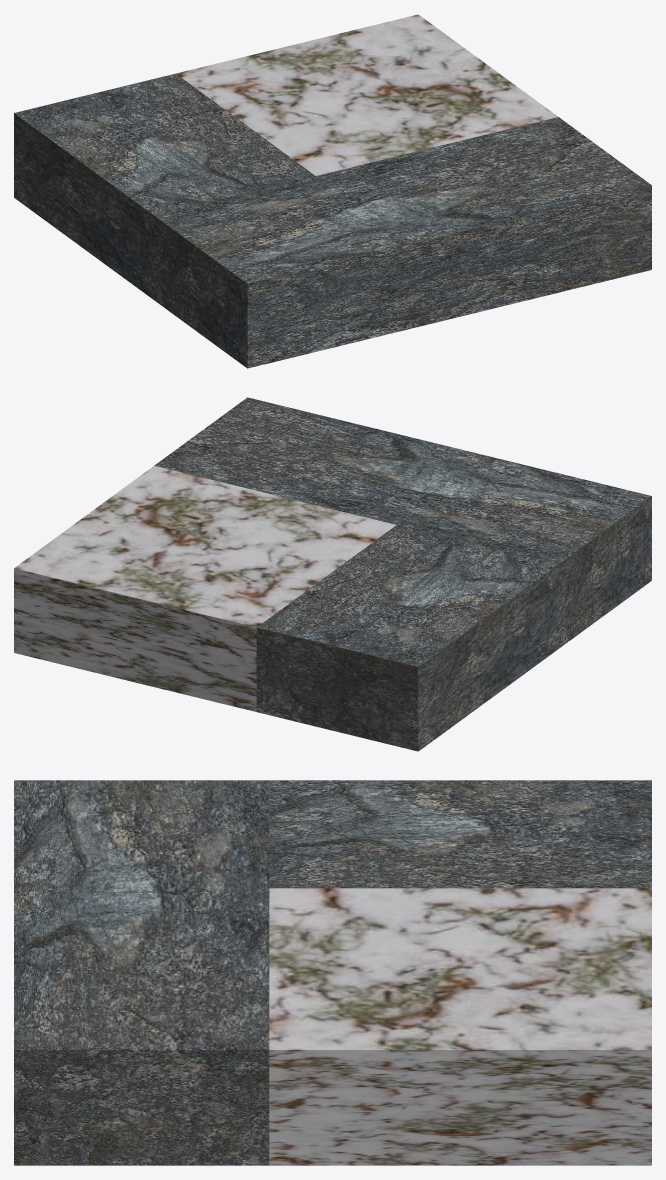
The model's file is Edge-Corner.glb.
3 views of the same model, one above another, from view 1: azimuth 30°, elevation 25°; view 2: azimuth 150°, elevation 25°; view 3: azimuth 270°, elevation 25° (orthographic). The views are drawn at different scales.
Parts seen in each view (by area): view 1: Cube.011, Cube.012, Edge-Corner; view 2: Edge-Corner, Cube.012, Cube.011; view 3: Edge-Corner, Cube.011, Cube.012.
Boxes of the visible parts, x1,y1,x2,y2 form: Cube.011: (154,117,651,368); Cube.012: (14,73,315,299); Edge-Corner: (176,14,557,175); Edge-Corner: (14,465,395,711); Cube.012: (256,525,558,751); Cube.011: (154,397,651,648); Edge-Corner: (269,888,651,1165); Cube.011: (14,780,269,1165); Cube.012: (269,780,651,888).
Bounding box in the file's own units: 1 × 0.2 × 1.
Materials: 2 (2 with a texture image).
